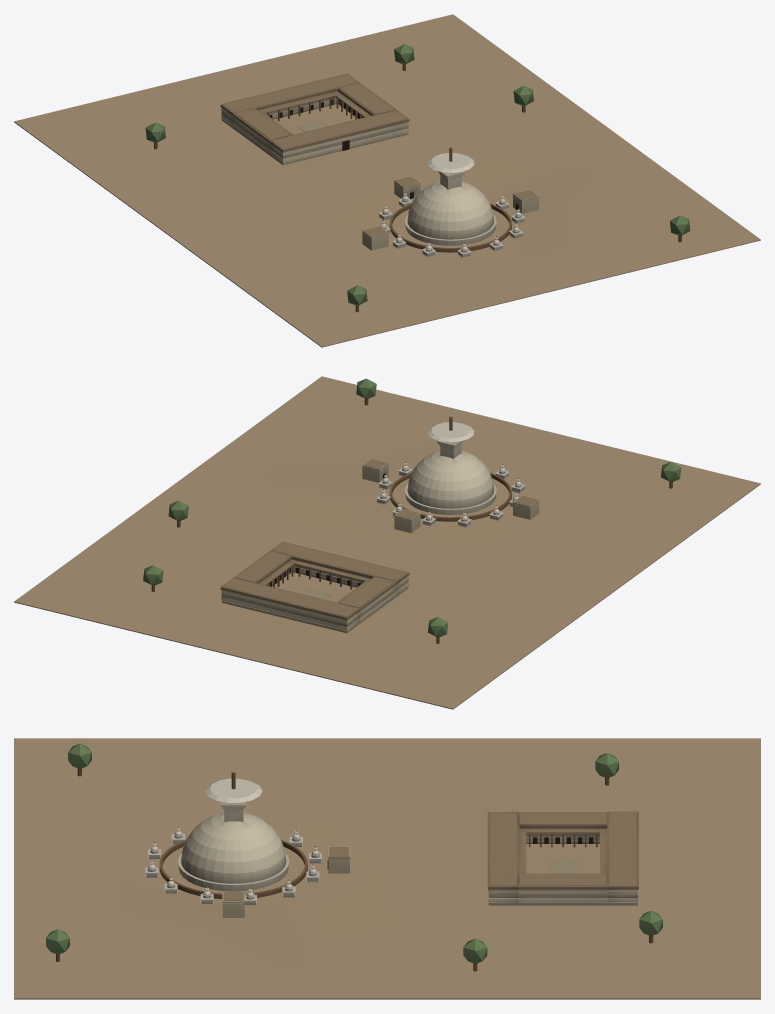
Rendered from dharmarajika-ig.glb.
3 renders of one model, top to bottom at view 1: azimuth 30°, elevation 25°; view 2: azimuth 150°, elevation 25°; view 3: azimuth 270°, elevation 25°, orthographic. The views are drawn at different scales.
Visible parts, largest first — view 1: p0_terrace, p2_monastery, p1_stupa; view 2: p0_terrace, p2_monastery, p1_stupa; view 3: p0_terrace, p2_monastery, p1_stupa.
Part boxes in pixels (box(x1,y1,x2,y2)): p0_terrace: box(14, 14, 760, 347); p2_monastery: box(145, 44, 690, 312); p1_stupa: box(389, 147, 511, 252); p0_terrace: box(14, 376, 760, 709); p2_monastery: box(143, 378, 681, 643); p1_stupa: box(389, 416, 511, 521); p0_terrace: box(14, 738, 760, 999); p2_monastery: box(46, 743, 662, 971); p1_stupa: box(159, 772, 307, 898).
Size of the model in its own units: 140 by 24.43 by 170.
